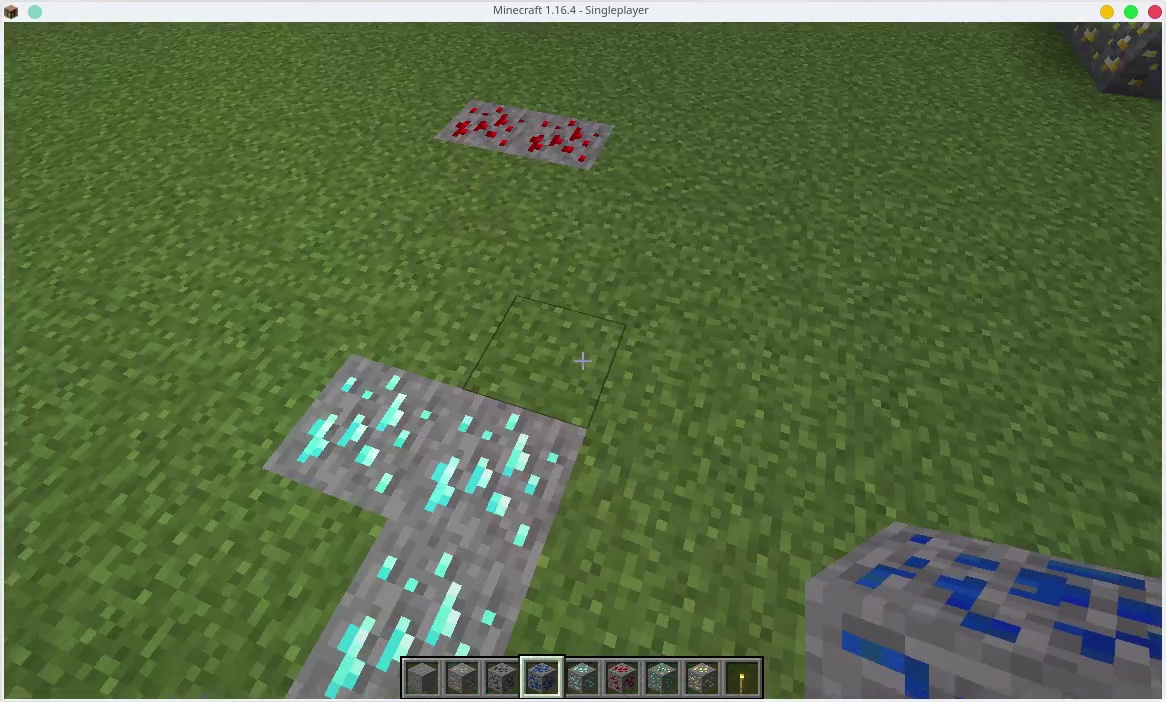gold: (1075, 26, 1153, 98), (688, 665, 720, 693)
